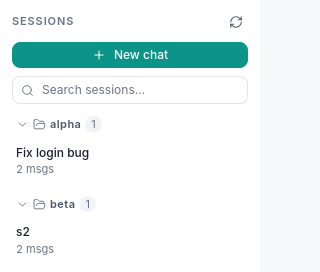
Test: Sidebar › expands all matched groups while searching by title
Type "Fix login" into the field labelled "Search sessions" at coordinates (140, 90), box [42,77,239,103]
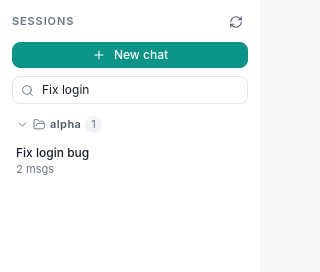
Expected: the text "alpha" is shown, [50,116,81,132]
Result: the button "beta" is gone
